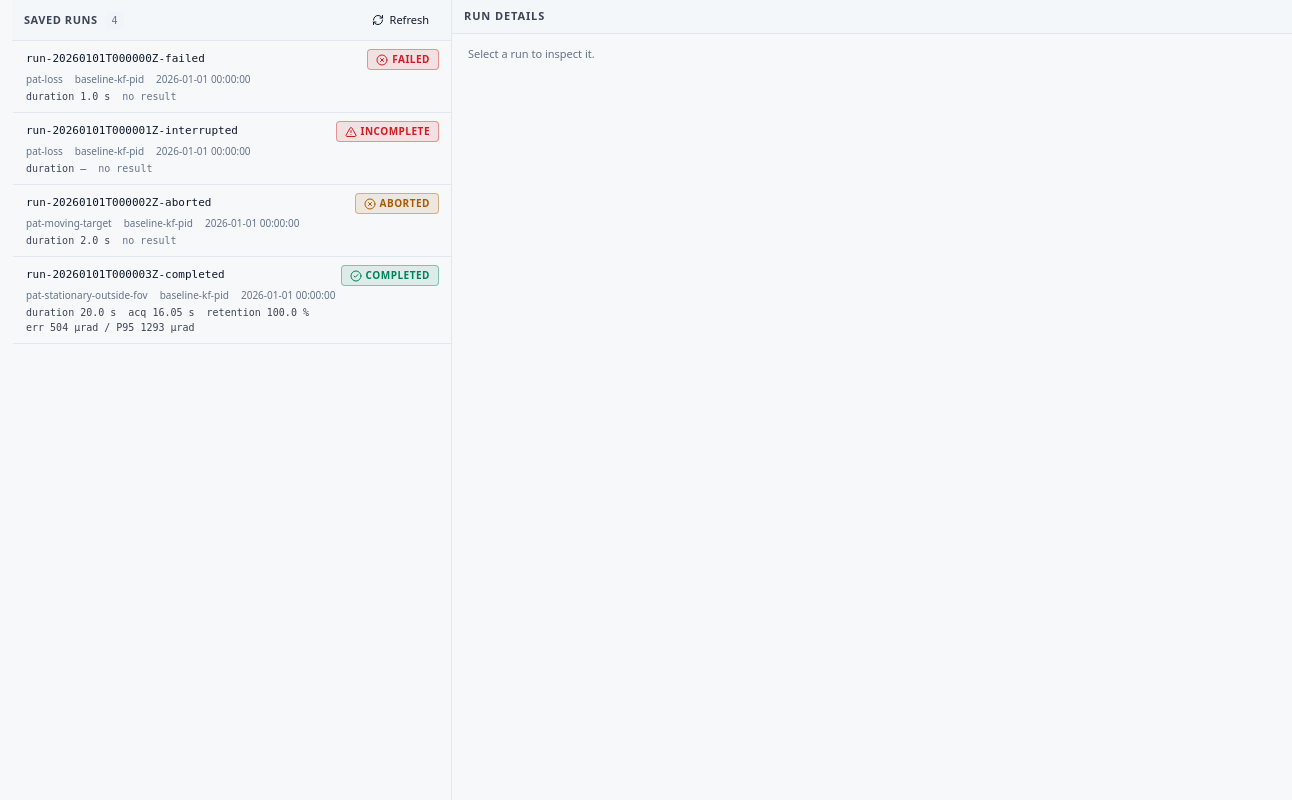
Test: inspecting a run › shows provenance and the performance log of a completed run, from its files
Click the button with aria-label "Open run run-20260101T000003Z-completed" at (232, 300), box [12,257,451,344]
(page scrolled)
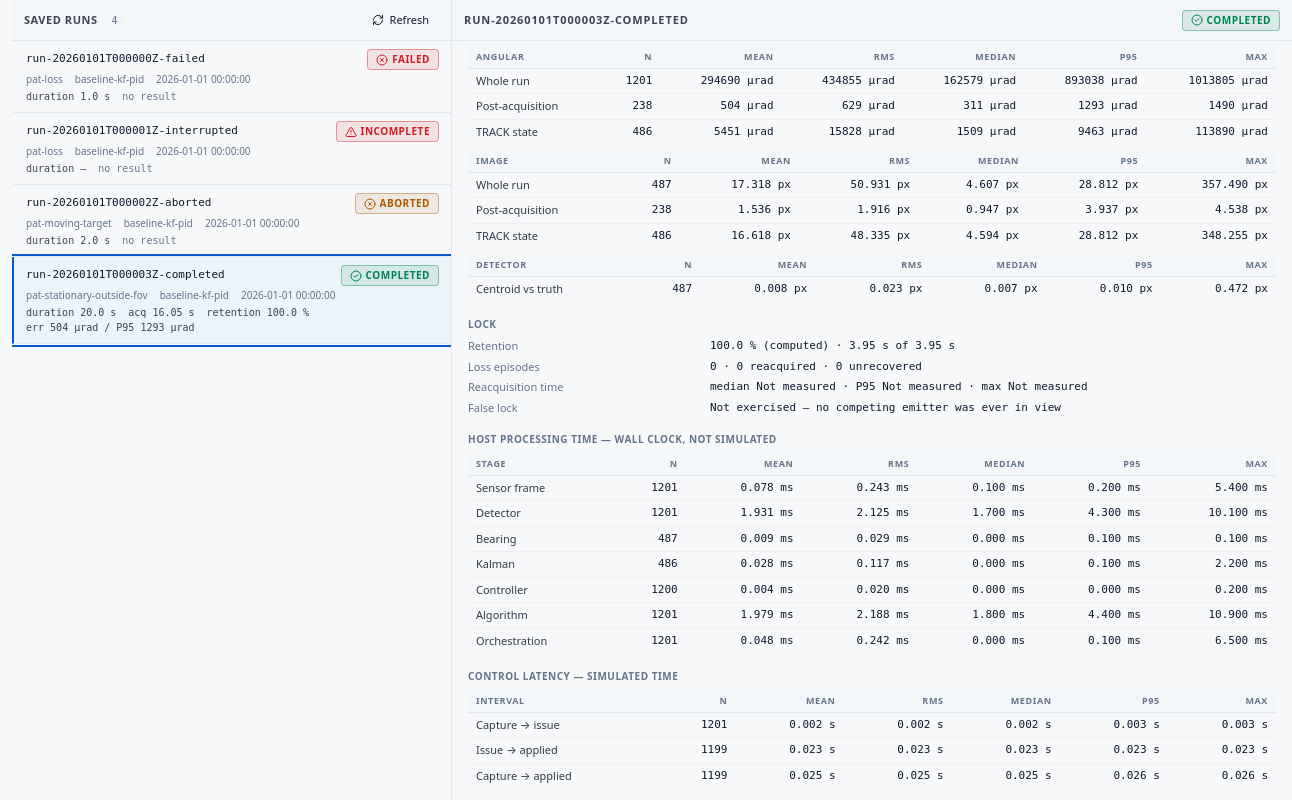
expect the text "Not exercised — no competing emitter was ever in view" is shown: met, box [710,400,1061,414]
expect the heading "Host processing time — wall clock, not simulated" is shown: met, box [468,432,777,446]
